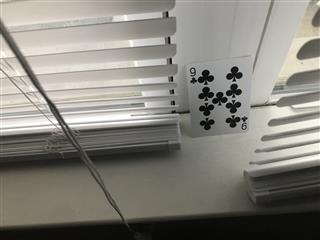NineOfClubs: (185, 54, 249, 138)
